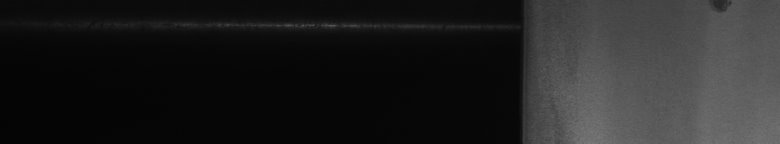fi: (709, 4, 732, 20)
